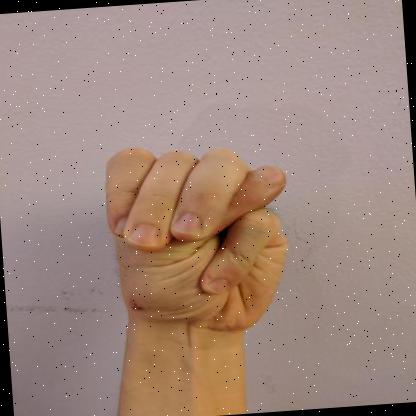M: (105, 148, 288, 340)
